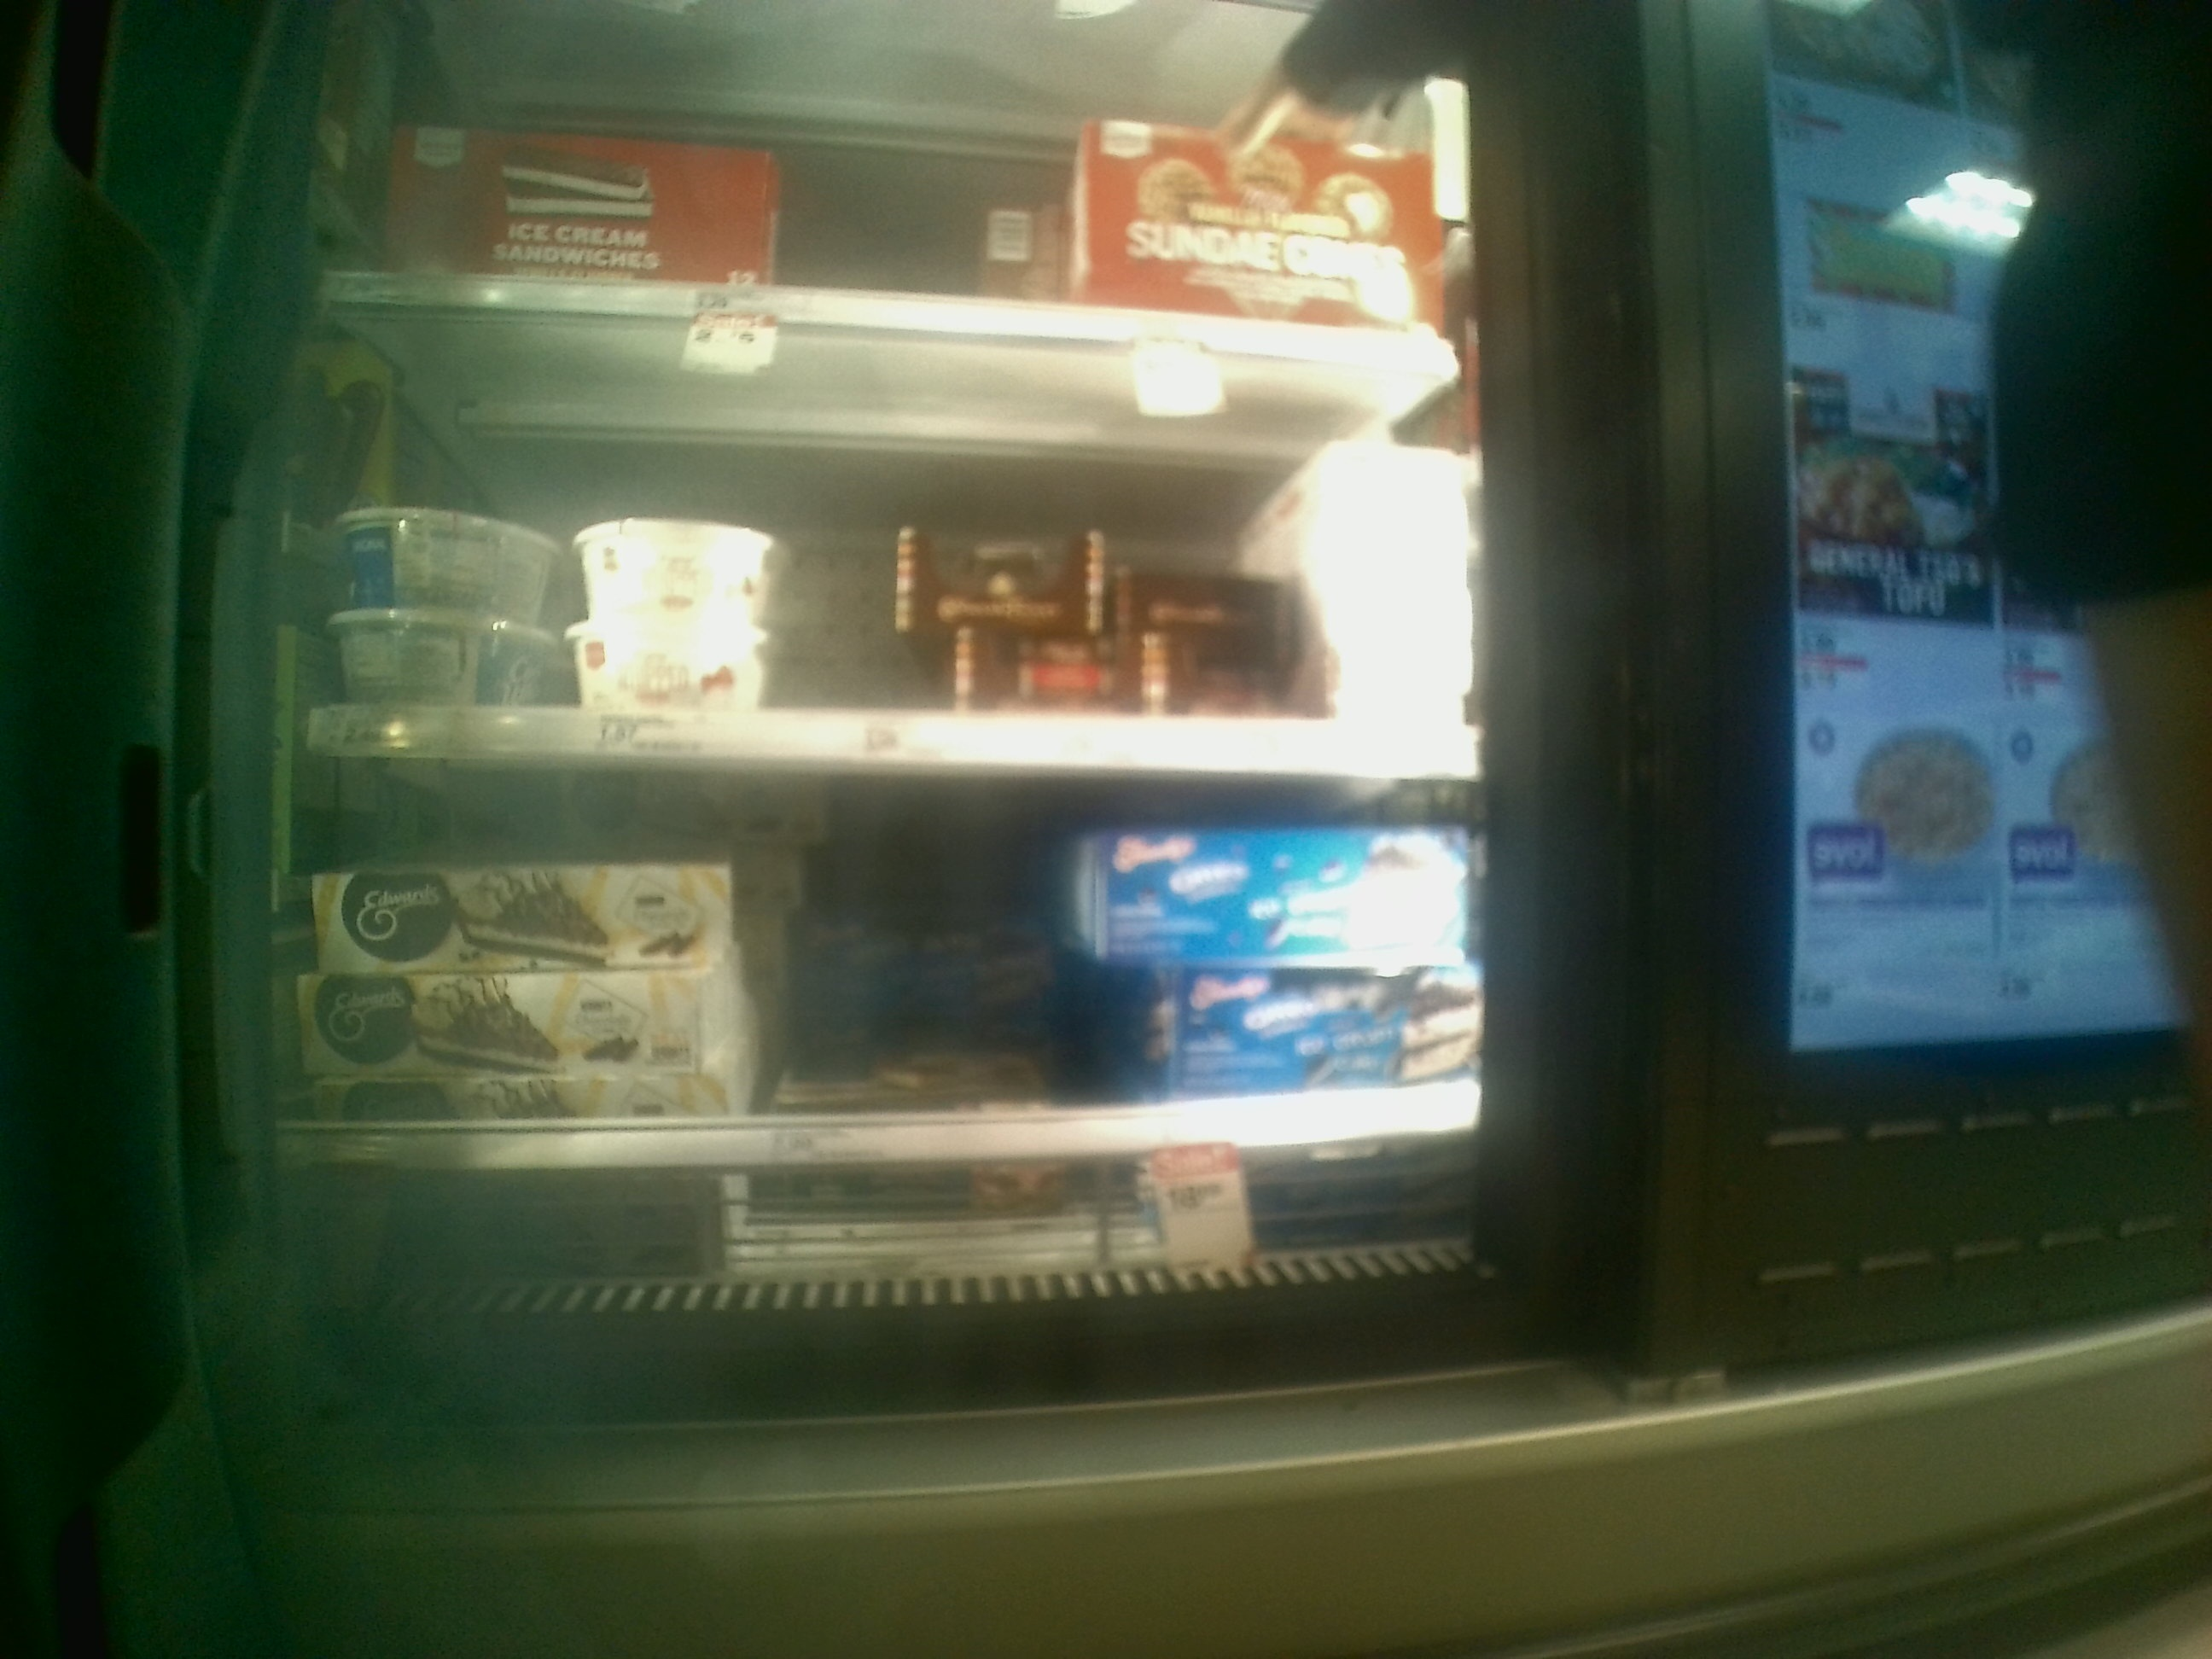frozen-food-shelf: (246, 774, 1480, 1175)
